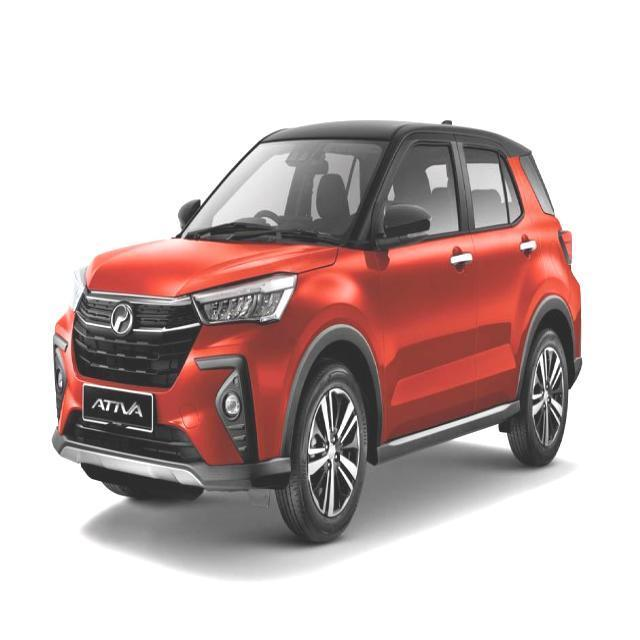PeroduaAtiva: (50, 117, 583, 544)
